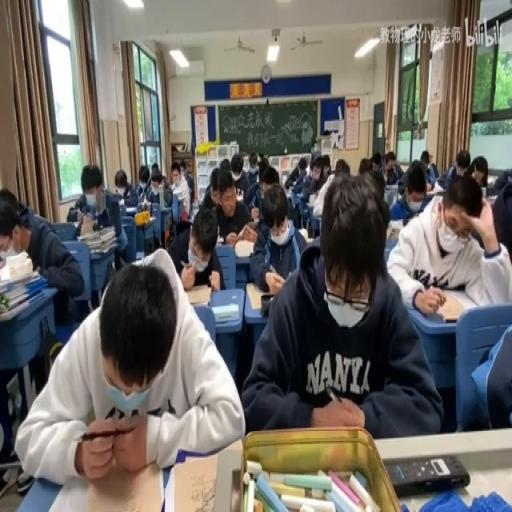calculator: (82, 454, 162, 510), (164, 449, 226, 512), (422, 286, 466, 321), (76, 225, 117, 253), (210, 300, 238, 322), (48, 222, 78, 242), (185, 283, 211, 304), (382, 182, 398, 206), (233, 238, 254, 256), (386, 222, 400, 242), (290, 186, 303, 206), (133, 215, 154, 226), (426, 188, 444, 196), (298, 226, 308, 240), (124, 205, 137, 215), (108, 193, 122, 202), (480, 184, 486, 199), (306, 199, 315, 208), (215, 236, 224, 243)
paper: (18, 245, 244, 485), (242, 171, 437, 438), (0, 189, 84, 327), (450, 175, 510, 291), (170, 206, 225, 292), (66, 161, 120, 229), (144, 162, 174, 218), (168, 161, 190, 220), (440, 148, 470, 188), (228, 150, 251, 200), (112, 166, 138, 209), (198, 165, 220, 210), (253, 158, 272, 206), (285, 155, 308, 192), (0, 188, 25, 222), (485, 166, 512, 197), (418, 149, 438, 188), (366, 168, 386, 202), (384, 151, 403, 186), (467, 154, 487, 186), (321, 155, 331, 181), (334, 160, 350, 176), (248, 151, 258, 175), (66, 205, 80, 222), (307, 155, 318, 176), (372, 152, 382, 174), (358, 158, 372, 173), (218, 156, 230, 170), (152, 175, 162, 189), (258, 151, 267, 165), (139, 174, 148, 188), (178, 161, 186, 175), (161, 175, 166, 183)
person: (386, 454, 470, 496), (228, 466, 241, 510), (259, 292, 273, 314)
